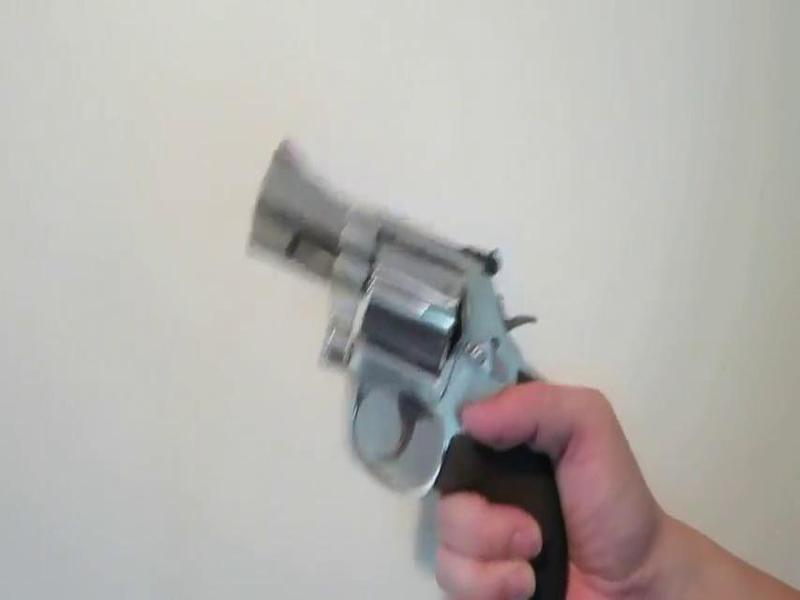Revolver: (247, 135, 551, 517)
